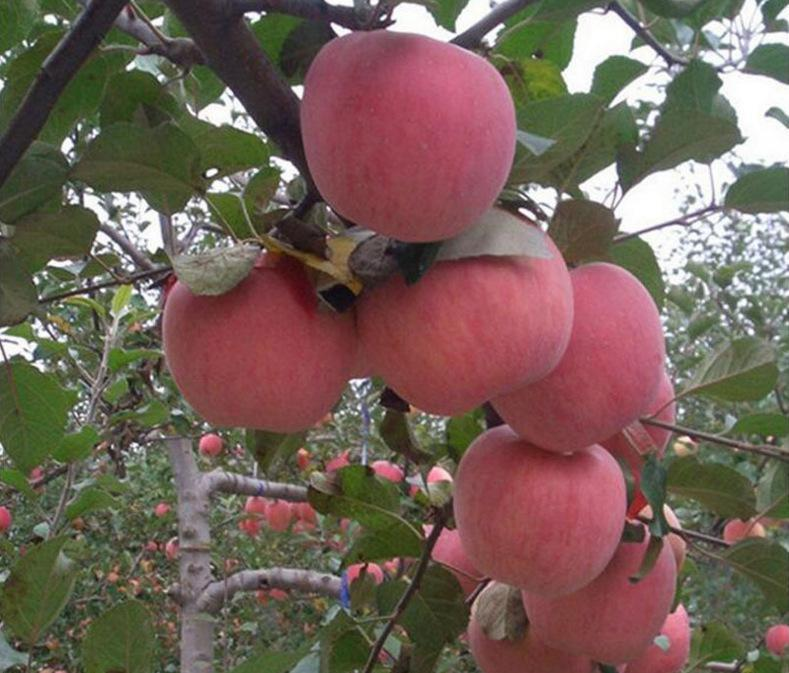apple: (297, 31, 518, 238), (354, 209, 574, 415), (159, 250, 354, 431), (491, 264, 666, 456), (450, 425, 628, 598), (525, 518, 676, 657)
